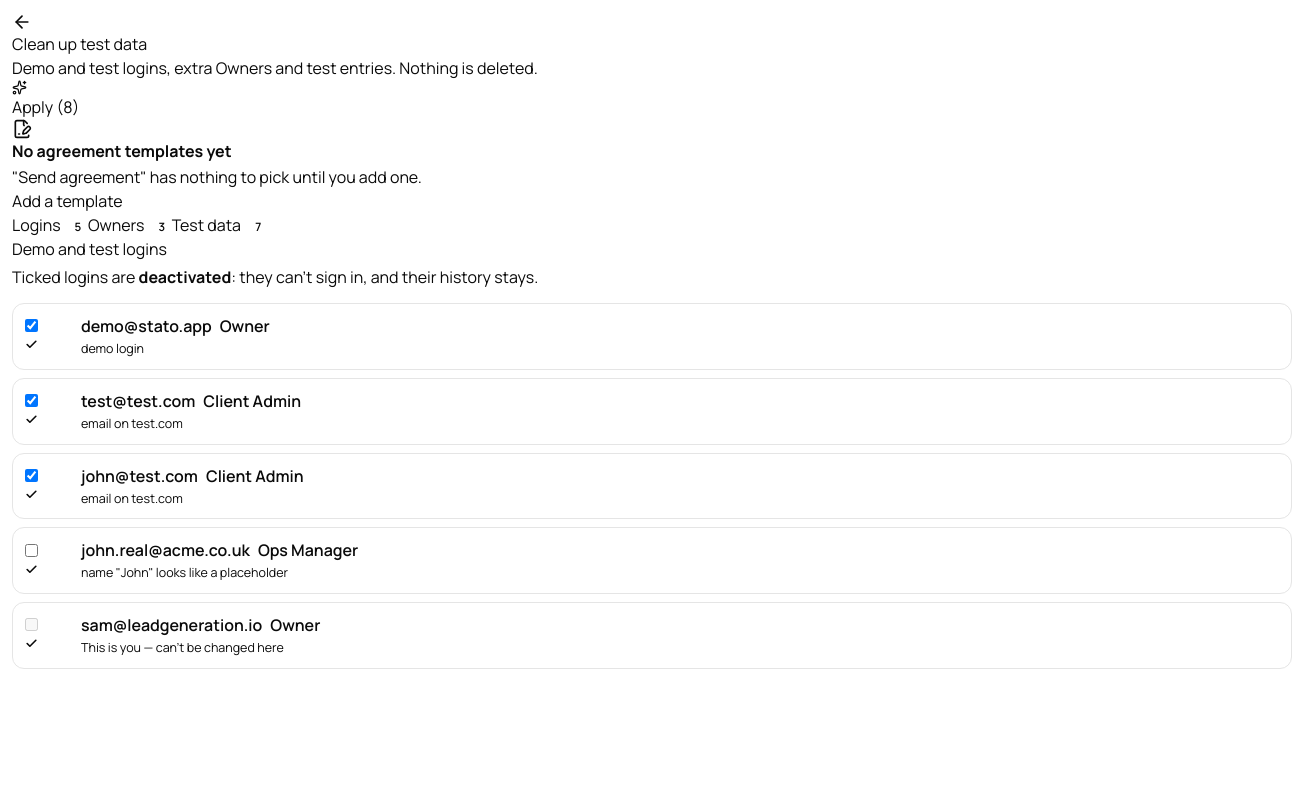
Test: Settings → Clean up (S8 + N6) › lists Owners with "Keep as Owner" by default and locks you
The image size is (1292, 812).
Click the tab "Owners 3" at (130, 225), box [88,213,172,237]
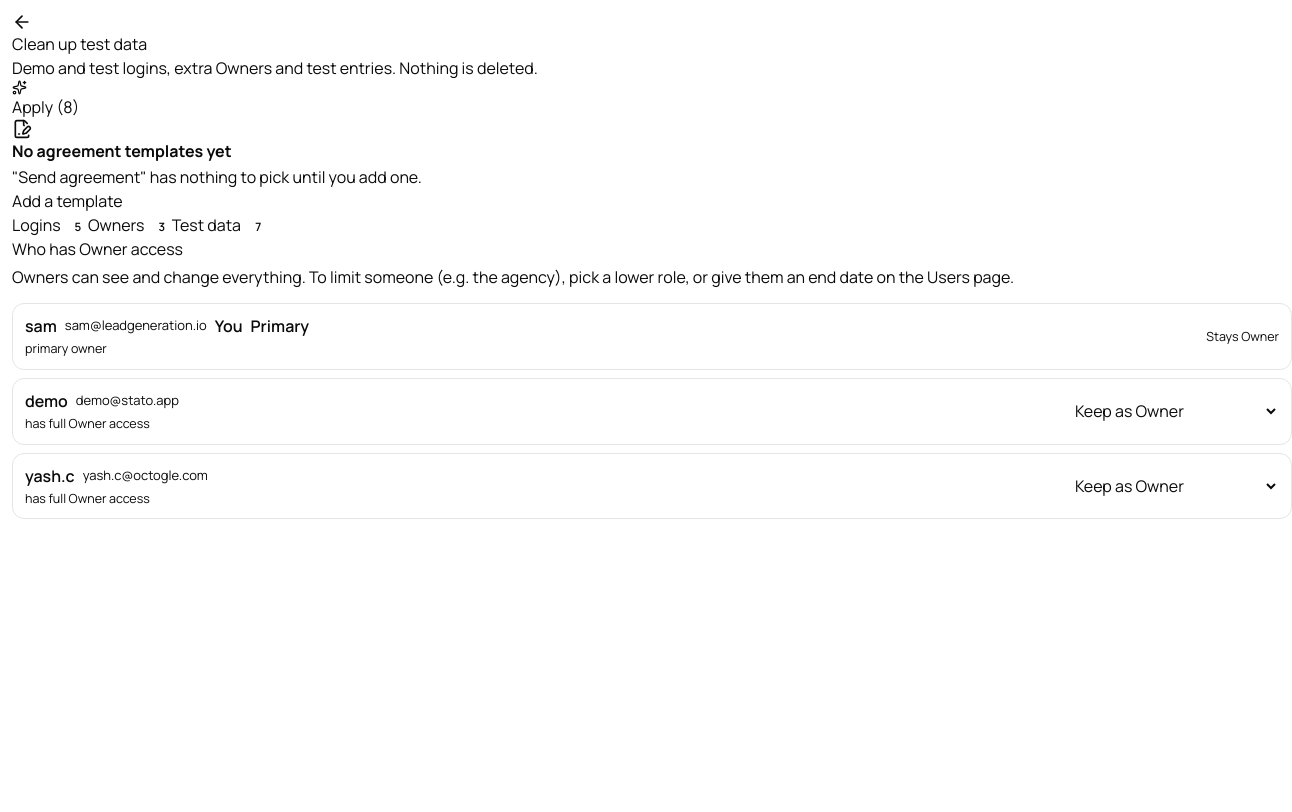
Check: the dropdown named "New role for yash.c@octogle.com" shows "Keep as Owner", box [1071,474,1279,498]
Check: the text "Stays Owner" is shown, box [1206,328,1279,347]
